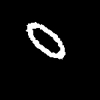chain: (26, 22, 64, 58)
